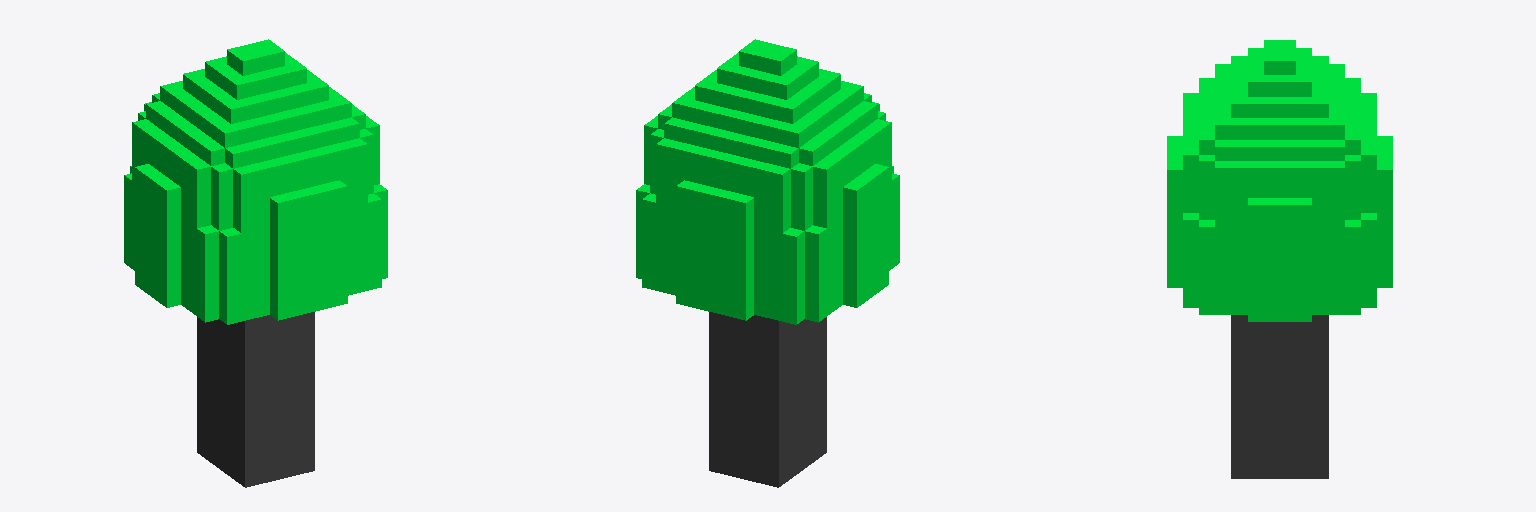
3 views of the same model, side by side, from view 1: azimuth 30°, elevation 25°; view 2: azimuth 150°, elevation 25°; view 3: azimuth 270°, elevation 25° (orthographic).
Bounding box in the file's own units: 15 × 28 × 14.
Materials: 1 (1 with a texture image).